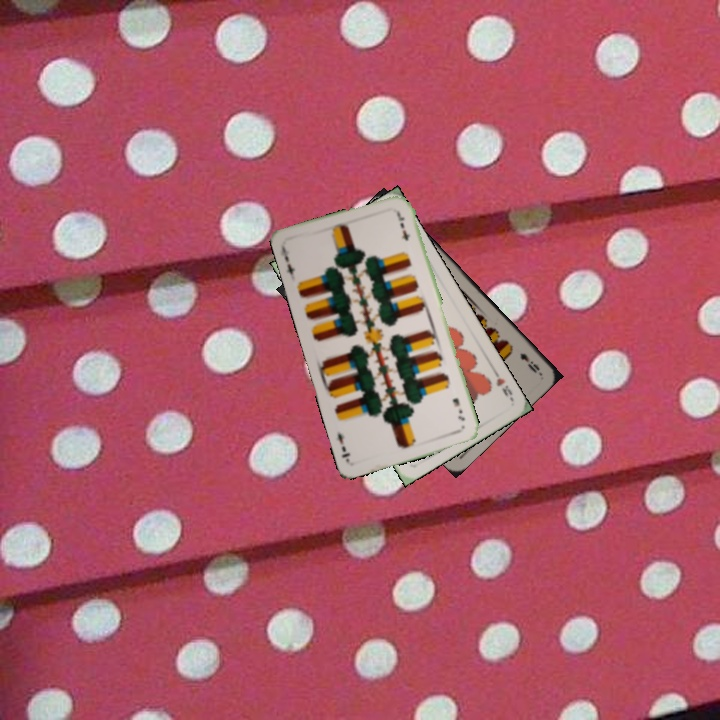E7: (448, 394, 467, 423), (280, 251, 298, 278)
E9: (516, 349, 542, 376)
H9: (489, 366, 515, 399)
